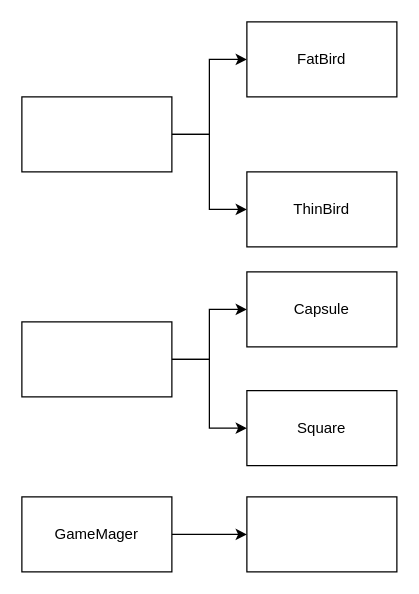
The diagram is 419 pixels wide and 594 high, and some of its shapes have lost their labels. Each missing label, with the centre of its shape:
BirdBase: point (96, 134)
obstacleBase: point (96, 359)
Score: point (321, 534)
